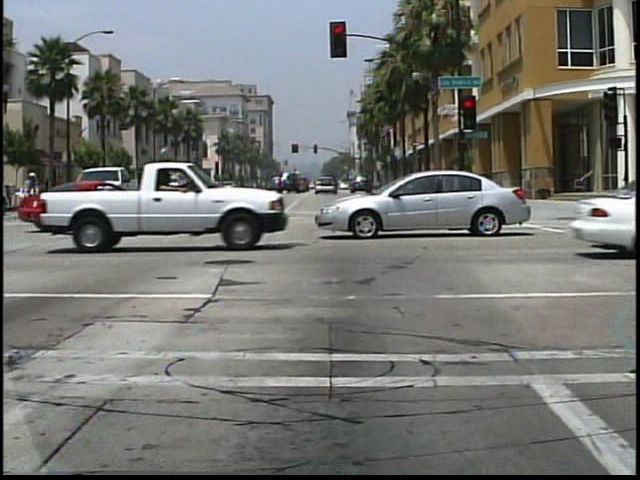person: (19, 168, 47, 221)
